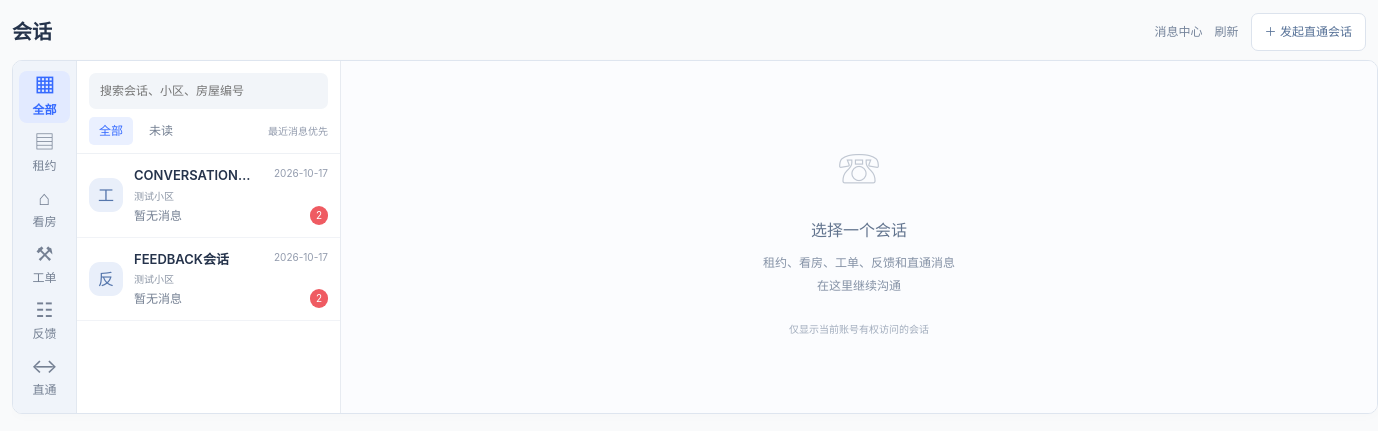
Test: 三段工作区的真实入口与服务端列表 › 保留业务来源及真实未读，同号反馈不覆盖群聊
Expected: the number of elements with class "unread" is 2, [310,206,328,224]; [310,289,328,308]
Click the 2nd button with class "inbox-row" at (106, 279), box [77,238,340,321]
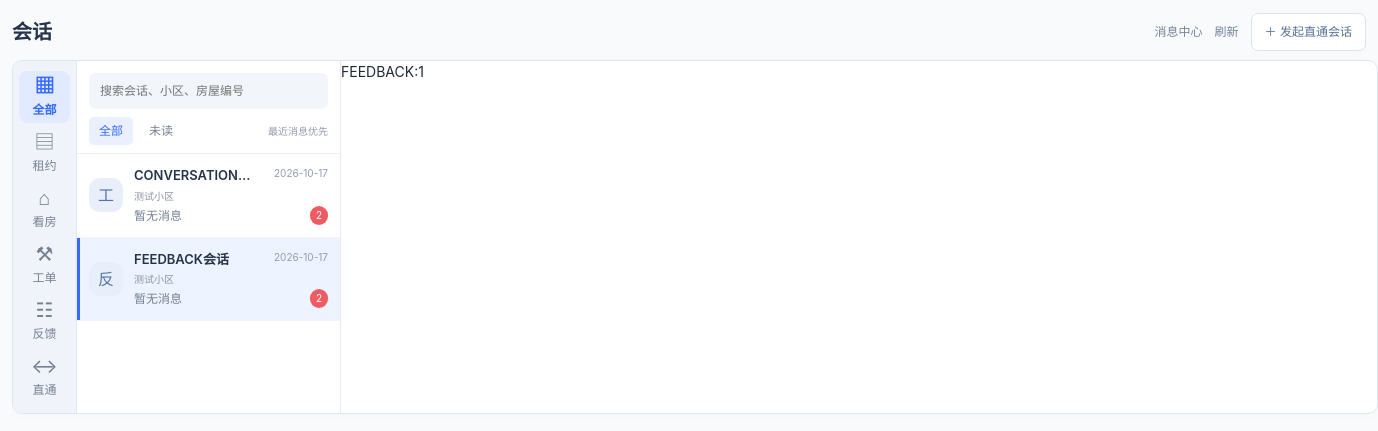
Result: the text "FEEDBACK:1" is shown at [341,63,424,80]
